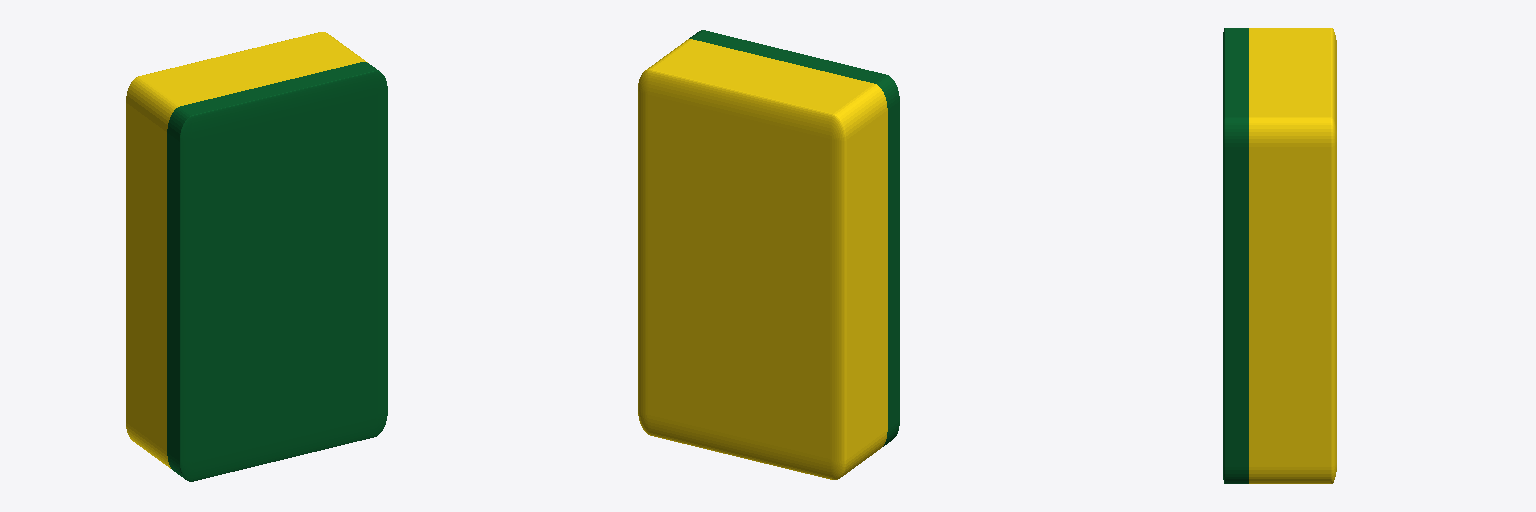
The model's file is sponge1.obj.
3 views of the same model, side by side, from view 1: azimuth 30°, elevation 25°; view 2: azimuth 150°, elevation 25°; view 3: azimuth 270°, elevation 25° (orthographic).
Parts seen in each view (by area): view 1: obj_0; view 2: obj_0; view 3: obj_0.
Part boxes in pixels (bbox=[...]): obj_0: bbox=[126, 32, 387, 481]; obj_0: bbox=[638, 30, 899, 479]; obj_0: bbox=[1223, 28, 1336, 483].
Bounding box in the file's own units: 112 × 188 × 53.24.